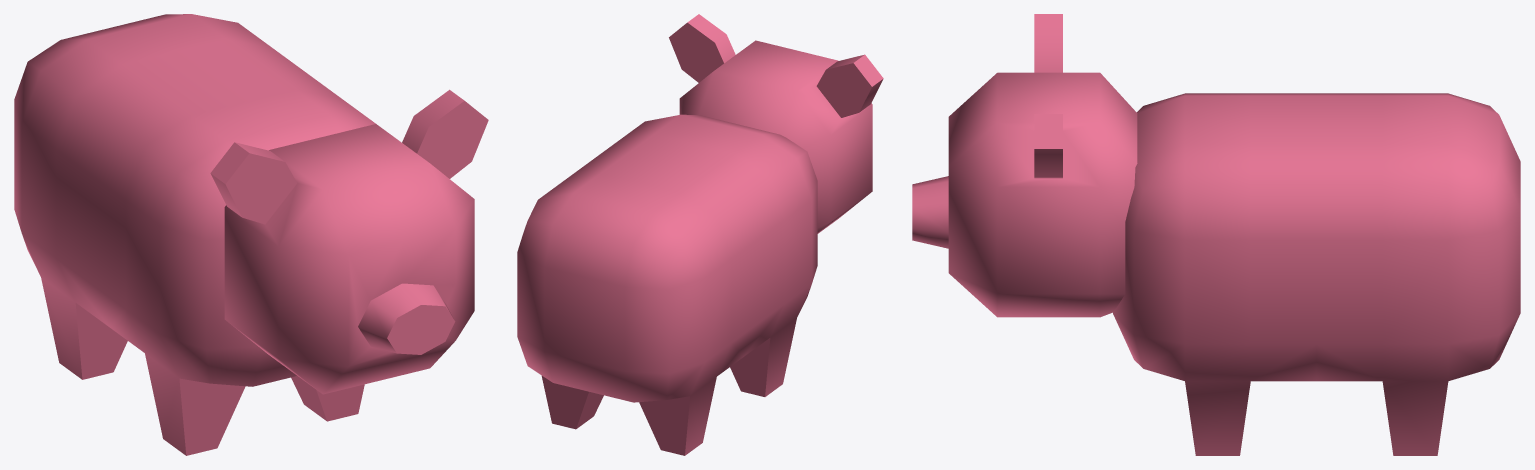
File: Pig.fbx
3 views of the same model, side by side, from view 1: azimuth 30°, elevation 25°; view 2: azimuth 150°, elevation 25°; view 3: azimuth 270°, elevation 25° (orthographic). The views are drawn at different scales.
Parts seen in each view (by area): view 1: Cube.1000, Cube.983; view 2: Cube.1000, Cube.983; view 3: Cube.1000, Cube.983.
Part boxes in pixels (bbox=[...]): Cube.1000: bbox=[14, 14, 375, 455]; Cube.983: bbox=[210, 89, 488, 394]; Cube.1000: bbox=[517, 114, 817, 455]; Cube.983: bbox=[669, 14, 883, 233]; Cube.1000: bbox=[1113, 93, 1520, 455]; Cube.983: bbox=[912, 14, 1137, 317].
Bounding box in the file's own units: 23.77 × 31.93 × 49.96.
